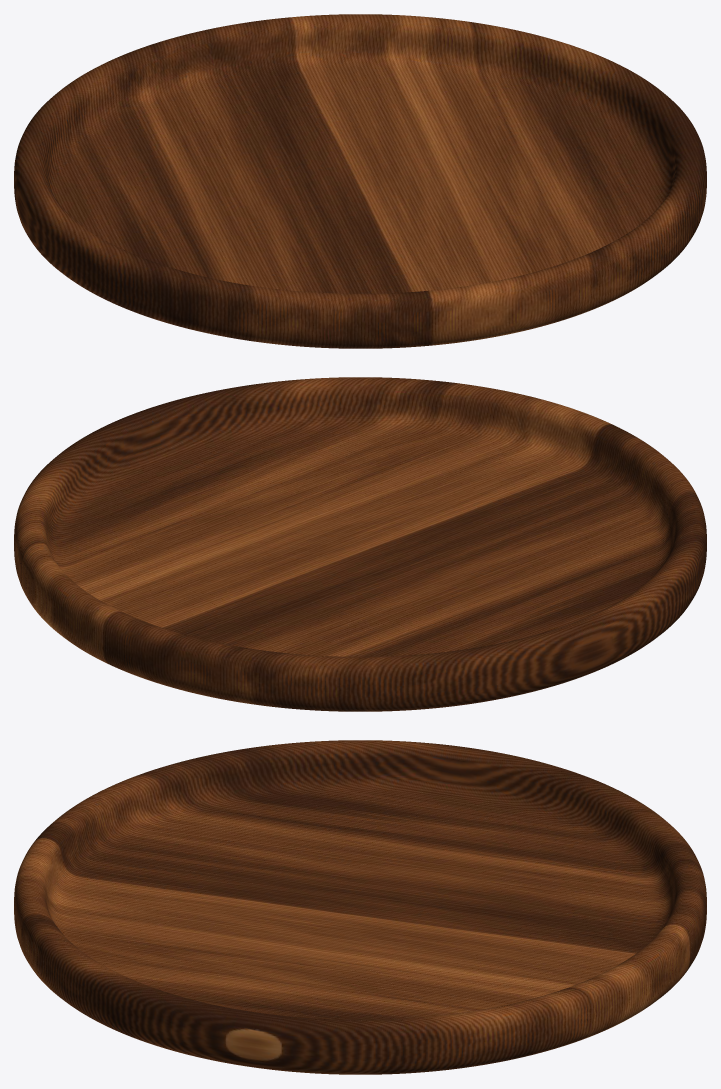
File: bandeja_madera.glb
3 views of the same model, one above another, from view 1: azimuth 30°, elevation 25°; view 2: azimuth 150°, elevation 25°; view 3: azimuth 270°, elevation 25° (orthographic).
Parts seen in each view (by area): view 1: bandeja_madera_web; view 2: bandeja_madera_web; view 3: bandeja_madera_web.
Part boxes in pixels (x1,y1,x2,y2): bandeja_madera_web: (14, 14, 706, 348); bandeja_madera_web: (14, 377, 706, 711); bandeja_madera_web: (14, 740, 706, 1074).
Size of the model in its own units: 0.261 by 0.0222 by 0.261.
1 material, 1 textured.
